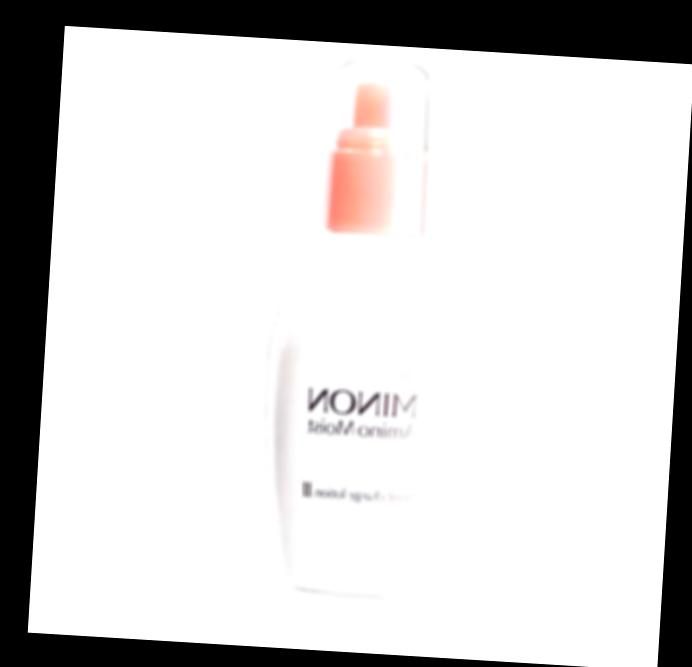cosmetic: (250, 48, 483, 605)
